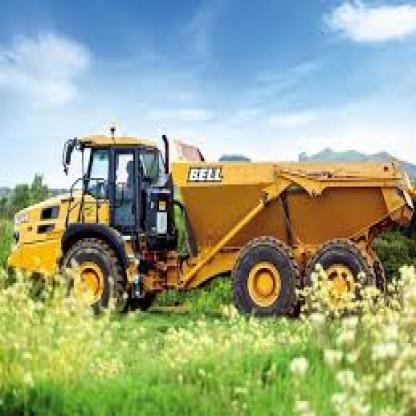dump_truck: (5, 114, 414, 347)
